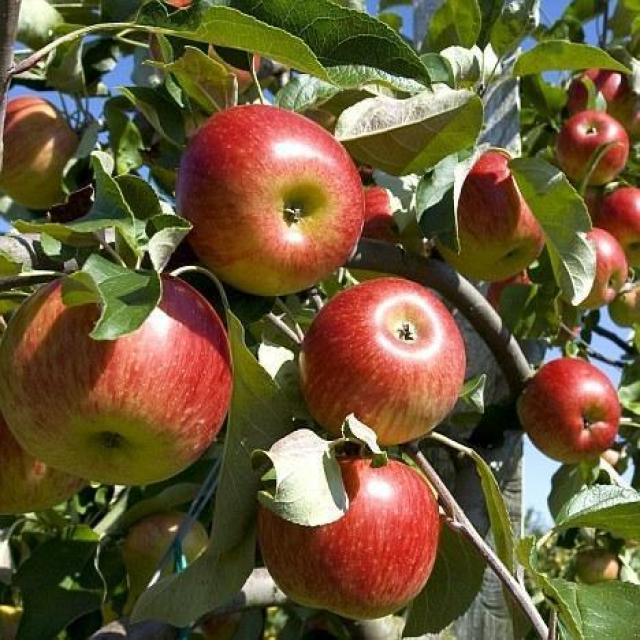apple: (1, 274, 237, 488), (176, 109, 365, 301), (257, 445, 444, 627), (306, 277, 473, 439), (429, 143, 546, 284), (108, 504, 226, 606), (5, 95, 99, 218), (517, 365, 629, 468), (157, 23, 278, 88), (570, 60, 640, 142), (560, 104, 633, 181), (563, 216, 622, 307), (591, 177, 640, 238)
